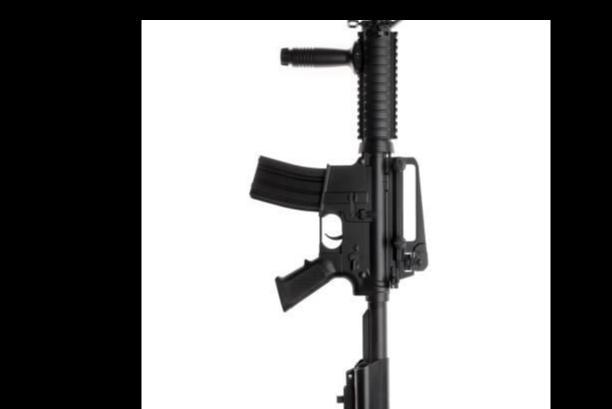larga: (250, 20, 428, 409)
